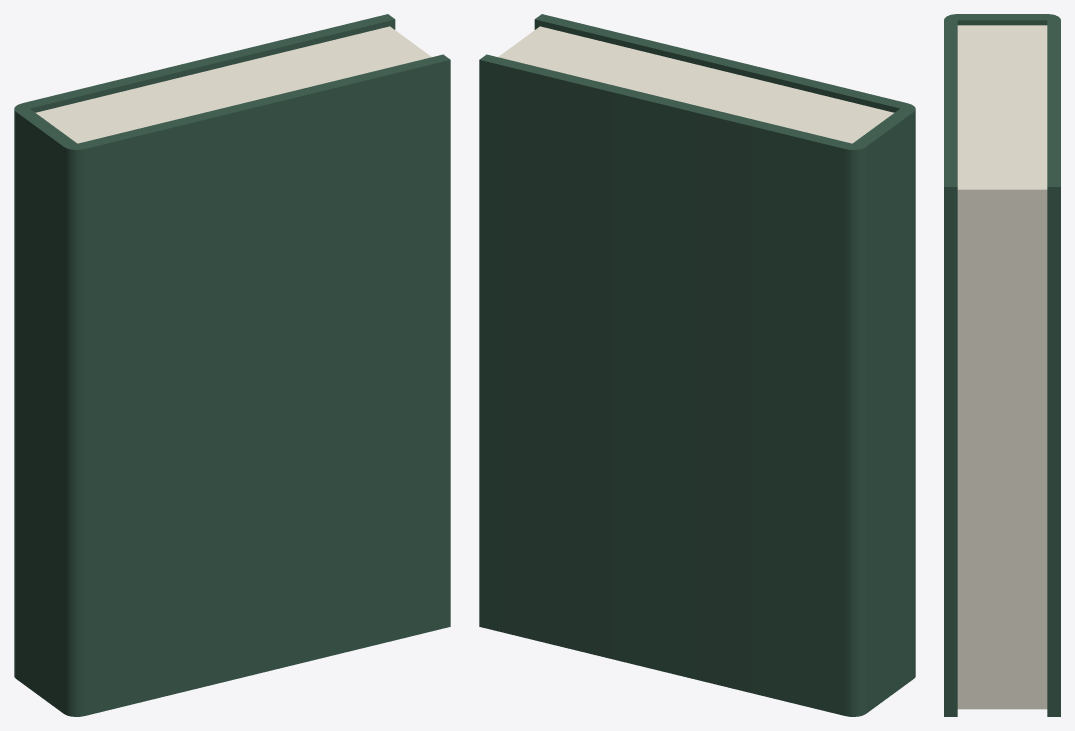
File: book_green.fbx
The picture shows the model from 3 angles, left to right: view 1: azimuth 30°, elevation 25°; view 2: azimuth 150°, elevation 25°; view 3: azimuth 270°, elevation 25°; orthographic projection. The views are drawn at different scales.
Visible parts, largest first — view 1: Cube, Cube.001; view 2: Cube, Cube.001; view 3: Cube.001, Cube.
Boxes of the visible parts, x1=… form: Cube: x1=14, y1=14, x2=450, y2=716; Cube.001: x1=35, y1=26, x2=431, y2=143; Cube: x1=479, y1=14, x2=915, y2=716; Cube.001: x1=498, y1=26, x2=894, y2=143; Cube.001: x1=957, y1=25, x2=1047, y2=709; Cube: x1=944, y1=14, x2=1060, y2=716.
Bounding box in the file's own units: 140 × 200 × 40.
